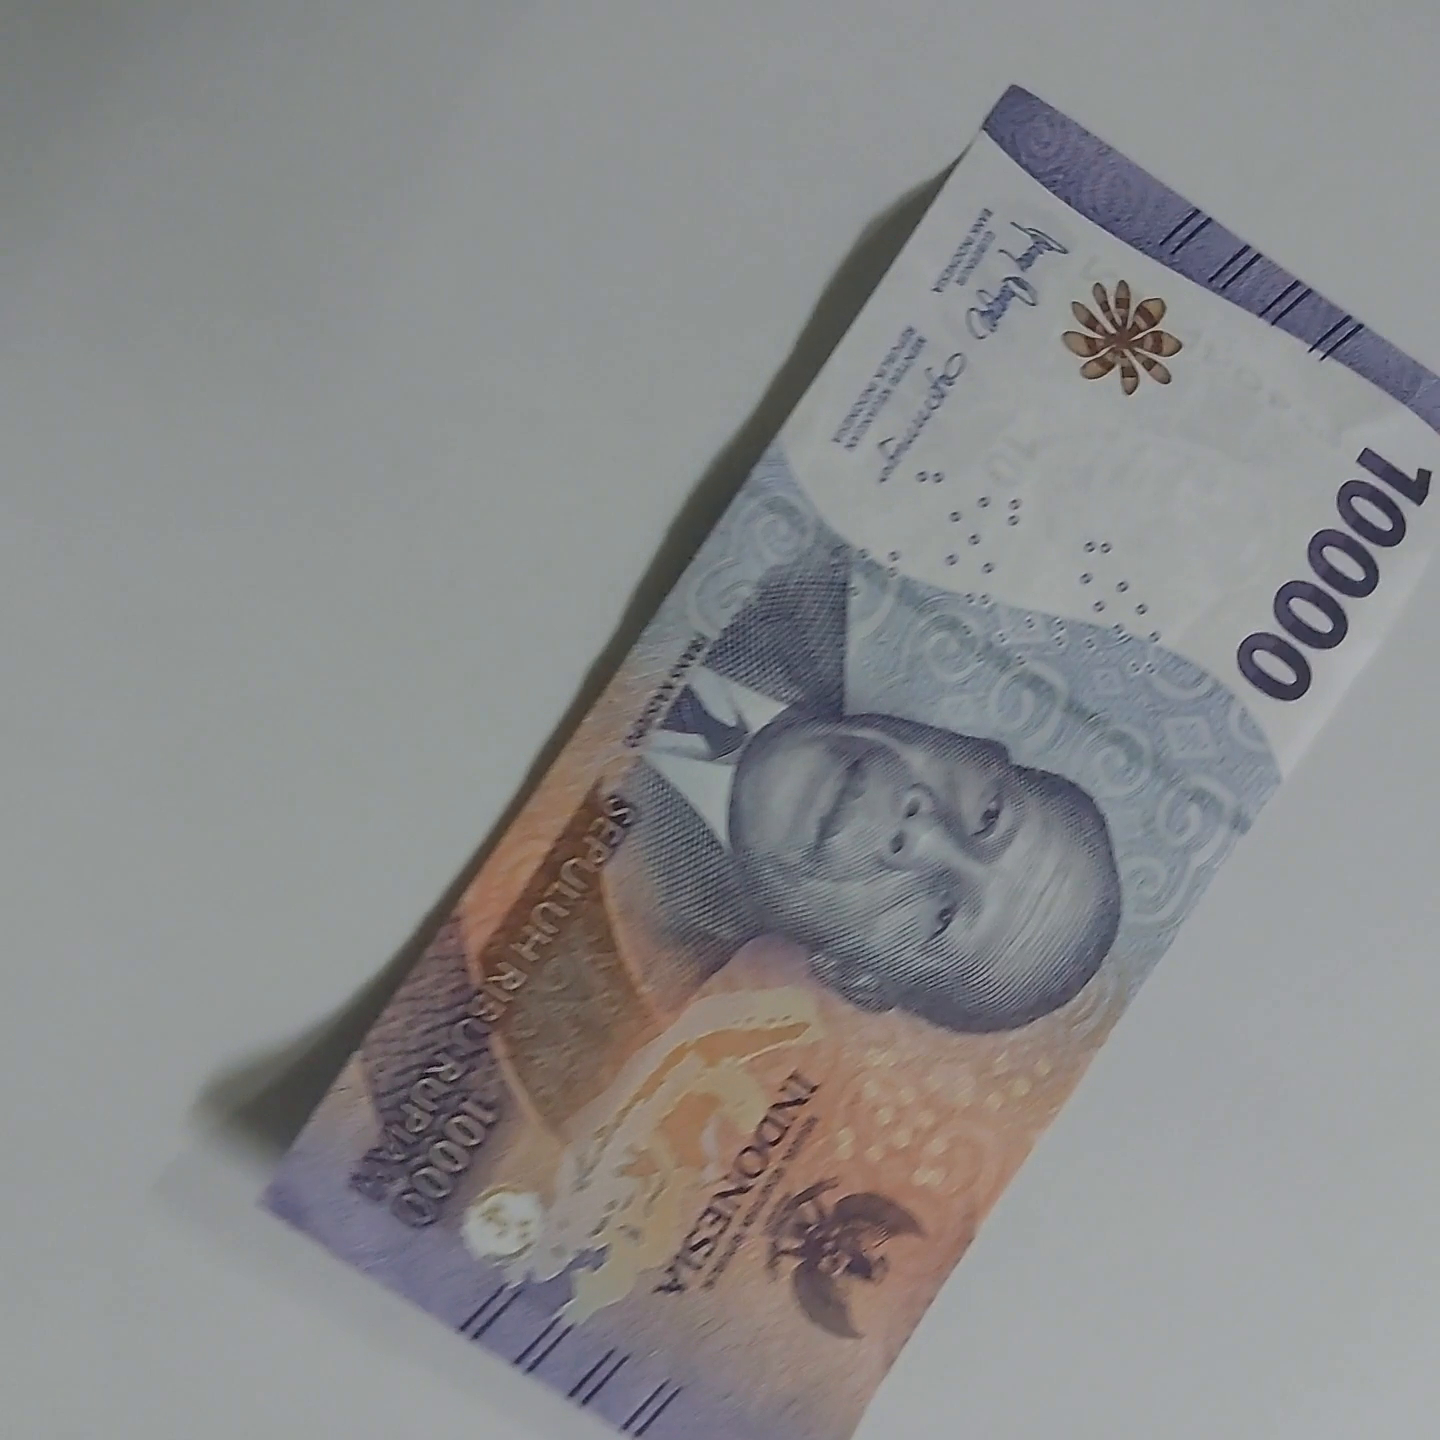10k: (247, 55, 1440, 1440)
